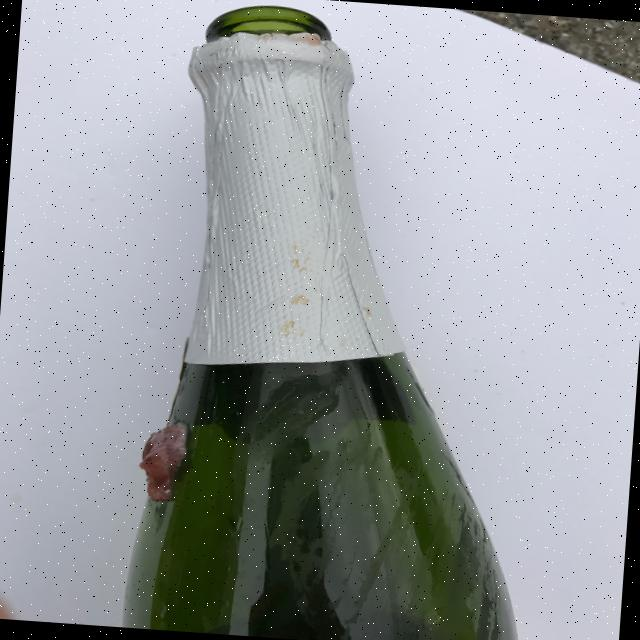glass: (121, 0, 564, 640)
